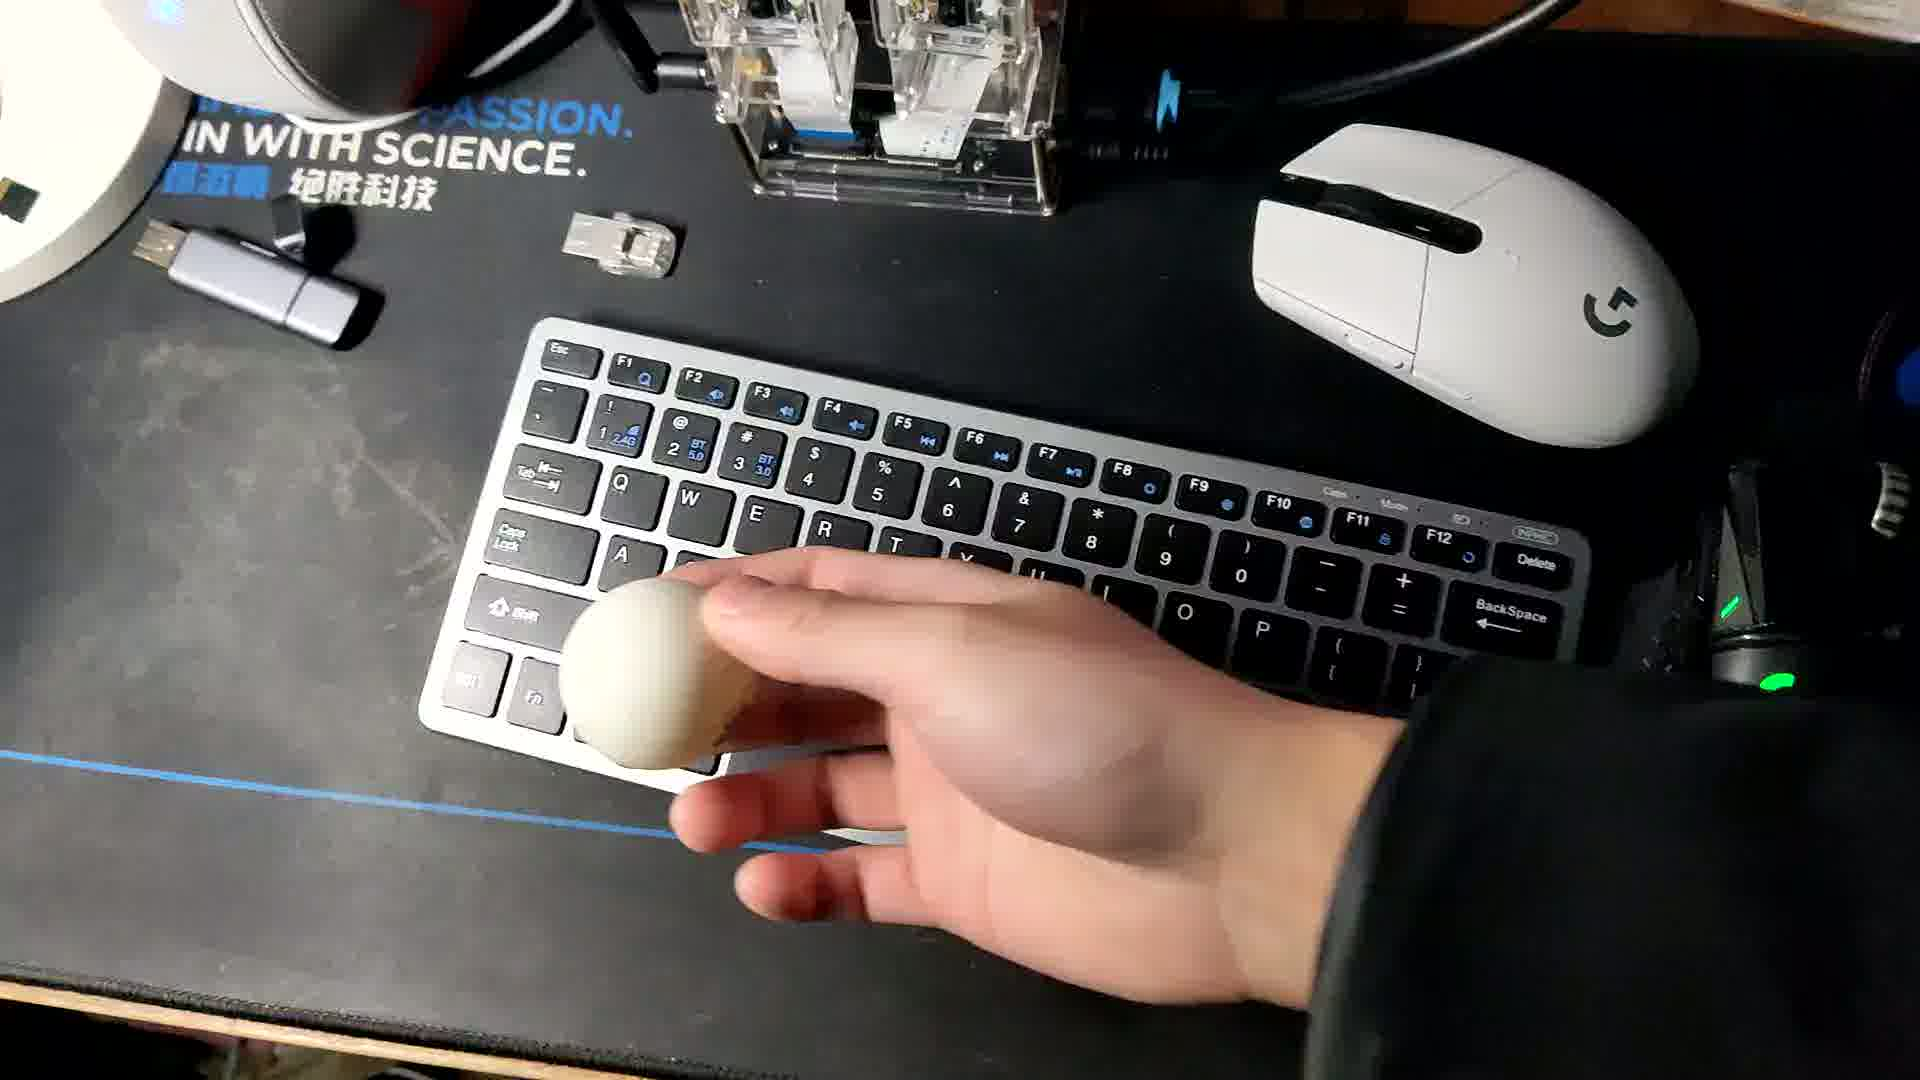Ball: (558, 576, 750, 767)
